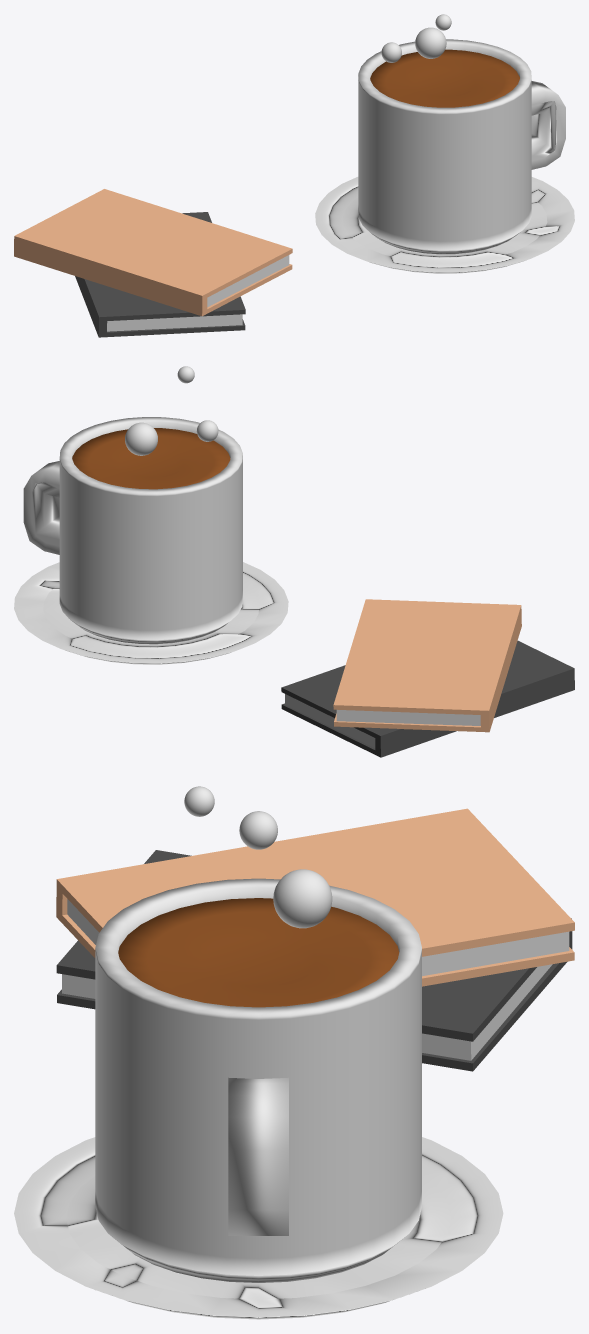
3 views of the same model, one above another, from view 1: azimuth 30°, elevation 25°; view 2: azimuth 150°, elevation 25°; view 3: azimuth 270°, elevation 25° (orthographic). The views are drawn at different scales.
Visible parts, largest first — view 1: 柱体, 立方体.002, 柱体.001, 柱体.002, 立方体.001, 立方体, 球体.001; view 2: 柱体, 立方体.002, 柱体.001, 立方体.001, 柱体.002, 立方体, 球体.001; view 3: 柱体, 立方体.002, 柱体.001, 柱体.002, 立方体.001, 立方体, 球体.001, 球体, 球体.002.
Boxes of the visible parts, <box> form: 柱体: <box>358,39,531,254</box>; 立方体.002: <box>14,189,292,316</box>; 柱体.001: <box>315,177,574,273</box>; 柱体.002: <box>370,49,519,107</box>; 立方体.001: <box>75,212,245,337</box>; 立方体: <box>531,81,565,169</box>; 球体.001: <box>415,27,446,58</box>; 柱体: <box>59,417,242,644</box>; 立方体.002: <box>333,599,521,732</box>; 柱体.001: <box>14,562,288,664</box>; 立方体.001: <box>281,640,574,757</box>; 柱体.002: <box>72,428,230,489</box>; 立方体: <box>23,461,59,554</box>; 球体.001: <box>125,422,157,455</box>; 柱体: <box>95,878,421,1282</box>; 立方体.002: <box>56,808,574,986</box>; 柱体.001: <box>14,1137,503,1319</box>; 柱体.002: <box>118,898,399,1007</box>; 立方体.001: <box>56,850,572,1071</box>; 立方体: <box>228,1077,288,1235</box>; 球体.001: <box>273,869,332,928</box>; 球体: <box>239,811,277,849</box>; 球体.002: <box>184,786,214,816</box>.
Size of what is drawn, in the model's own units: 649 by 293 by 344.
